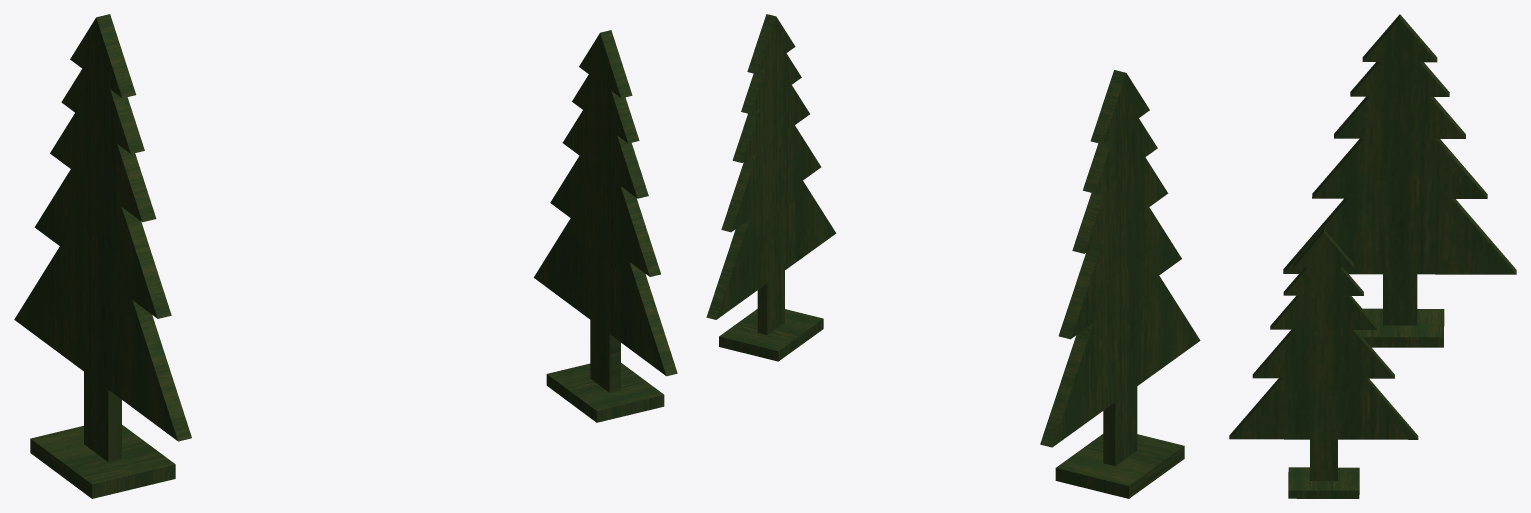
The model's file is SapinsBois.fbx.
The picture shows the model from 3 angles, left to right: view 1: azimuth 30°, elevation 25°; view 2: azimuth 150°, elevation 25°; view 3: azimuth 270°, elevation 25°; orthographic projection. The views are drawn at different scales.
Parts seen in each view (by area): view 1: GrosSapin, PetitSapin; view 2: GrosSapin, PetitSapin; view 3: GrosSapin, PetitSapin.
Part boxes in pixels (box(x1,y1,x2,y2)): GrosSapin: box(14, 14, 191, 498); PetitSapin: box(534, 30, 677, 422); GrosSapin: box(1040, 70, 1200, 498); PetitSapin: box(706, 14, 836, 361); GrosSapin: box(1283, 14, 1516, 347); PetitSapin: box(1229, 229, 1418, 498).
Size of the model in its own units: 189 by 155 by 127.
